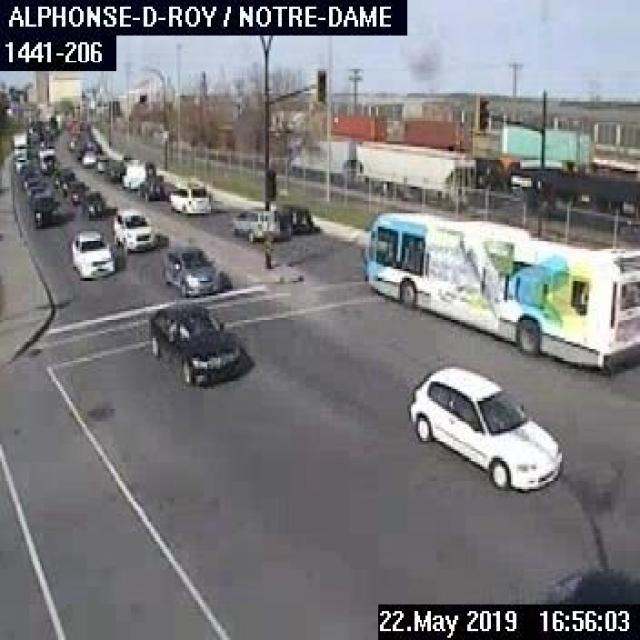bus: (362, 209, 638, 369)
vehicle: (407, 365, 562, 491), (143, 292, 247, 382), (161, 244, 220, 294), (69, 225, 117, 279), (229, 204, 287, 242), (113, 209, 156, 252), (166, 176, 211, 216), (268, 200, 315, 236), (29, 194, 60, 228), (135, 172, 169, 200), (119, 158, 145, 188), (66, 180, 90, 206), (84, 191, 103, 217), (56, 172, 78, 194), (92, 154, 111, 172)
